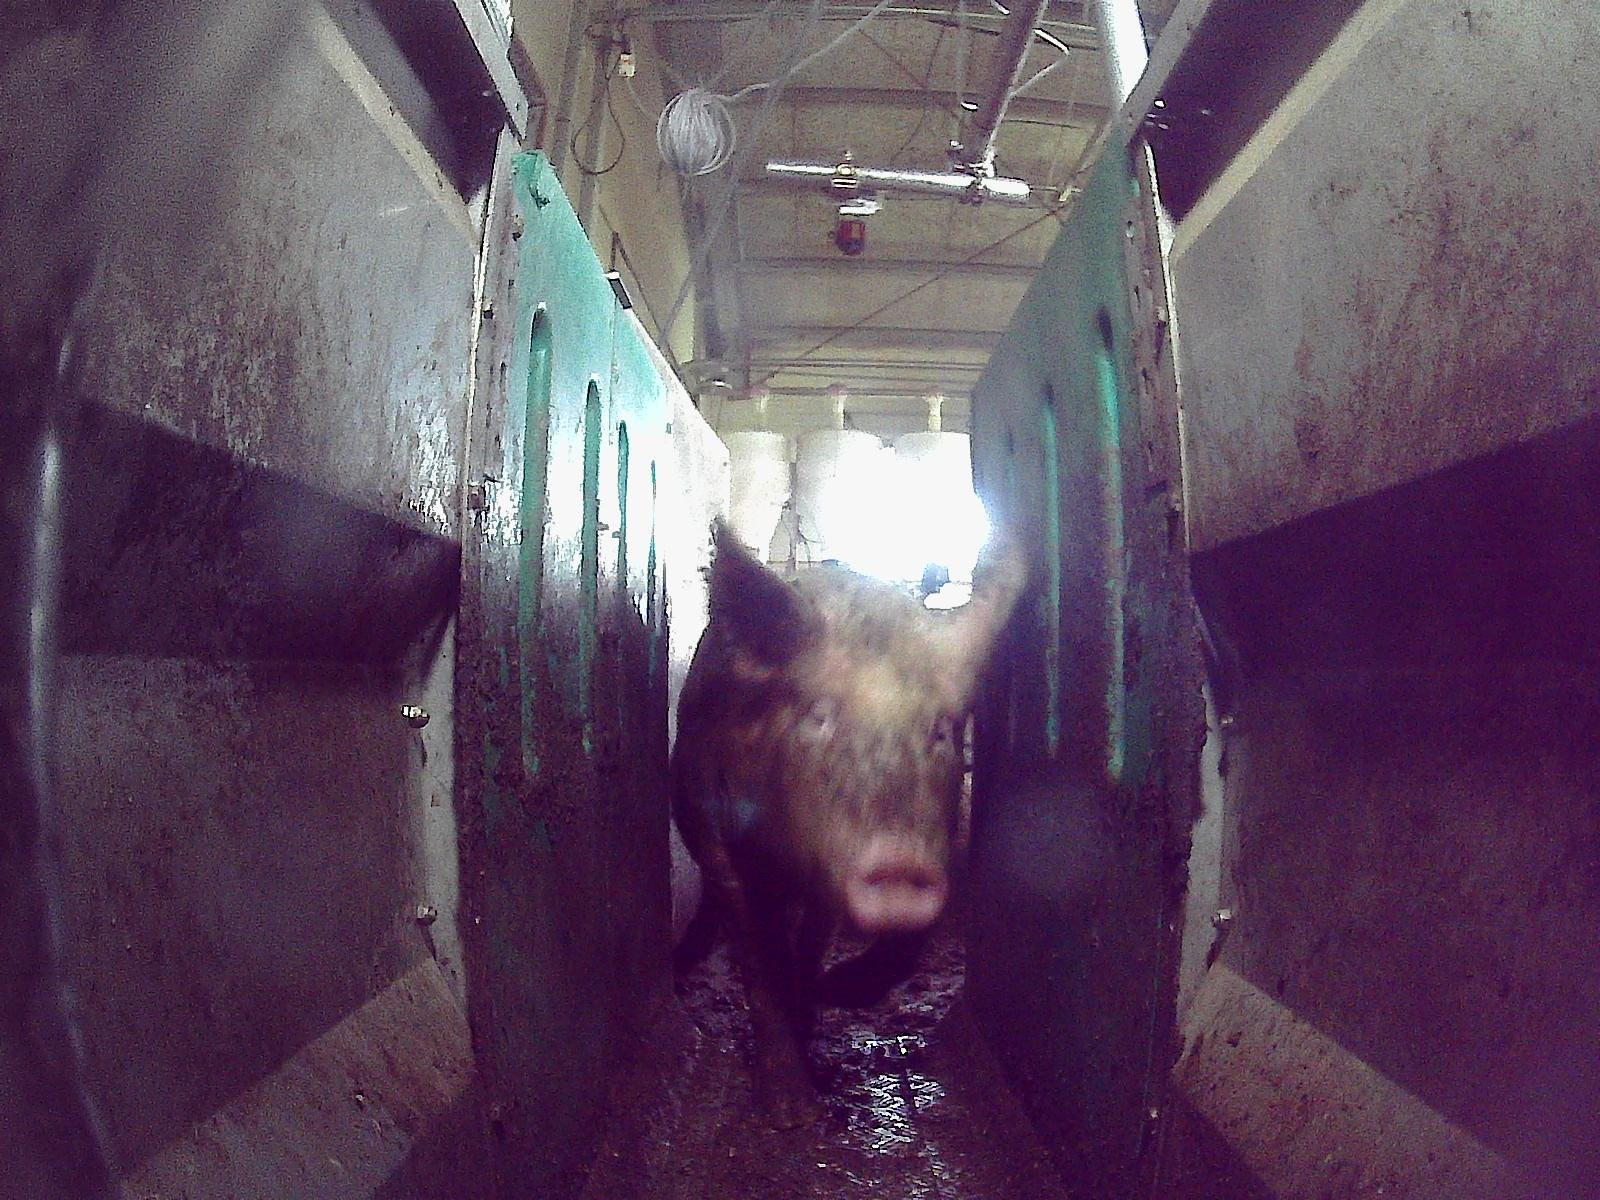Face: (741, 635, 962, 938)
